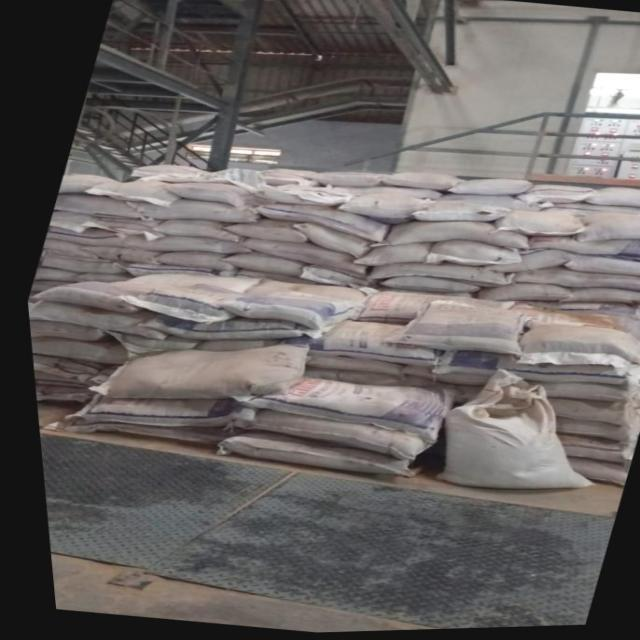gunny_bag: (425, 370, 587, 492), (221, 375, 454, 448), (79, 345, 302, 399), (225, 410, 427, 465), (204, 431, 405, 478), (374, 300, 522, 361), (506, 321, 640, 381), (212, 279, 360, 331), (299, 320, 435, 370), (421, 359, 627, 391), (51, 396, 247, 429), (240, 204, 385, 246), (345, 289, 509, 324), (22, 300, 160, 340), (506, 305, 640, 346), (127, 314, 319, 342), (233, 237, 360, 278), (362, 223, 526, 254), (115, 286, 230, 325), (46, 422, 218, 448), (355, 265, 509, 291), (22, 284, 142, 315), (120, 198, 256, 225), (501, 270, 640, 296), (111, 232, 249, 256), (282, 224, 365, 262), (115, 274, 255, 295), (155, 182, 256, 211), (486, 212, 585, 241), (299, 355, 398, 384), (238, 184, 350, 209), (79, 180, 172, 210), (546, 436, 628, 470), (535, 400, 627, 430), (519, 384, 627, 409), (415, 243, 518, 269), (49, 193, 142, 221), (406, 200, 510, 225), (25, 338, 119, 365), (329, 195, 429, 220), (142, 219, 238, 244), (215, 251, 299, 279), (72, 215, 159, 242), (469, 254, 572, 276), (546, 419, 625, 447), (32, 251, 121, 275), (519, 238, 619, 259), (466, 285, 571, 305), (391, 367, 482, 389), (214, 223, 301, 246), (557, 257, 640, 281), (569, 218, 640, 246), (426, 196, 536, 214), (344, 246, 426, 270), (145, 252, 230, 275), (26, 354, 98, 381), (548, 291, 640, 312), (117, 262, 230, 279), (560, 459, 620, 491), (375, 172, 465, 193), (322, 186, 438, 202), (505, 186, 594, 206), (372, 278, 475, 295), (294, 265, 369, 288), (23, 320, 101, 342), (71, 246, 155, 266), (440, 180, 532, 198), (41, 227, 121, 247), (119, 164, 204, 181), (578, 189, 640, 212), (297, 172, 380, 189), (242, 167, 316, 186), (54, 173, 113, 195), (228, 269, 312, 284), (536, 206, 640, 218), (116, 334, 193, 350), (36, 238, 93, 259), (28, 384, 85, 403), (184, 341, 277, 352), (27, 372, 85, 389), (44, 211, 86, 233), (330, 373, 393, 387), (605, 243, 640, 268), (28, 267, 73, 283), (393, 380, 449, 391), (64, 273, 125, 283), (24, 279, 63, 294), (294, 369, 331, 382)
